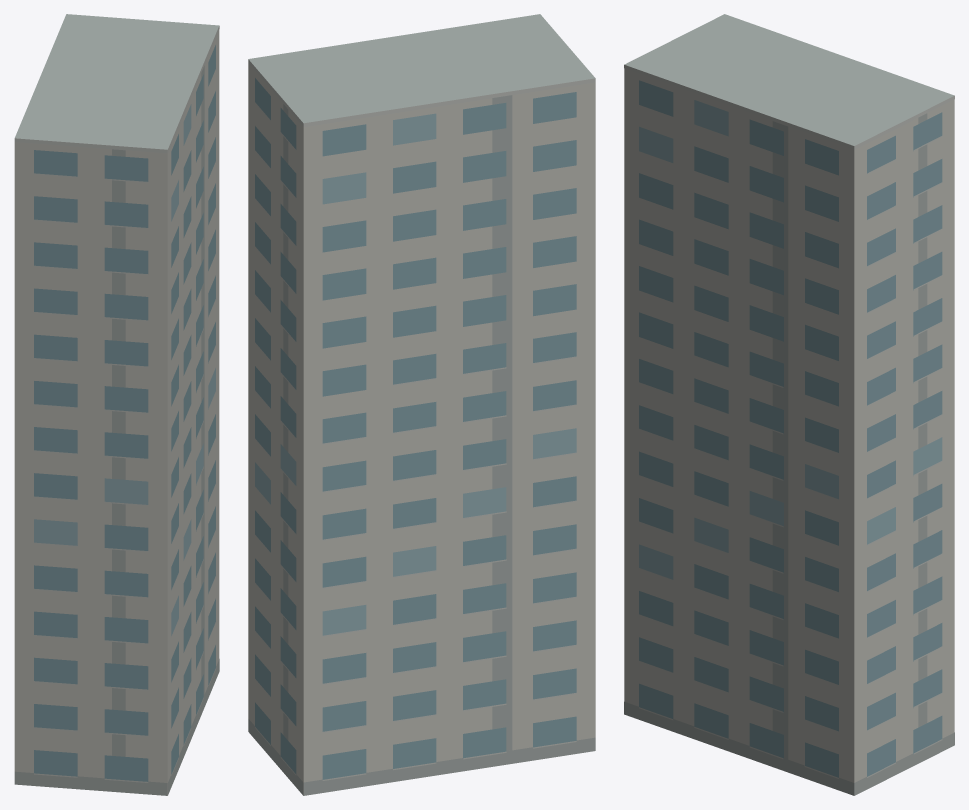
The model's file is residential-bf505ccf-6674-429e-afd7-cd56e5220283.glb.
3 renders of one model, left to right at view 1: azimuth 30°, elevation 25°; view 2: azimuth 150°, elevation 25°; view 3: azimuth 270°, elevation 25°, orthographic. The views are drawn at different scales.
Parts seen in each view (by area): view 1: residential-bf505ccf-6674-429e-afd7-cd56e5220283.tmp; view 2: residential-bf505ccf-6674-429e-afd7-cd56e5220283.tmp; view 3: residential-bf505ccf-6674-429e-afd7-cd56e5220283.tmp.
Part boxes in pixels (bbox=[...]): residential-bf505ccf-6674-429e-afd7-cd56e5220283.tmp: bbox=[14, 14, 219, 795]; residential-bf505ccf-6674-429e-afd7-cd56e5220283.tmp: bbox=[248, 14, 595, 795]; residential-bf505ccf-6674-429e-afd7-cd56e5220283.tmp: bbox=[624, 14, 954, 795].
Bounding box in the file's own units: 18.32 × 42 × 19.38.
